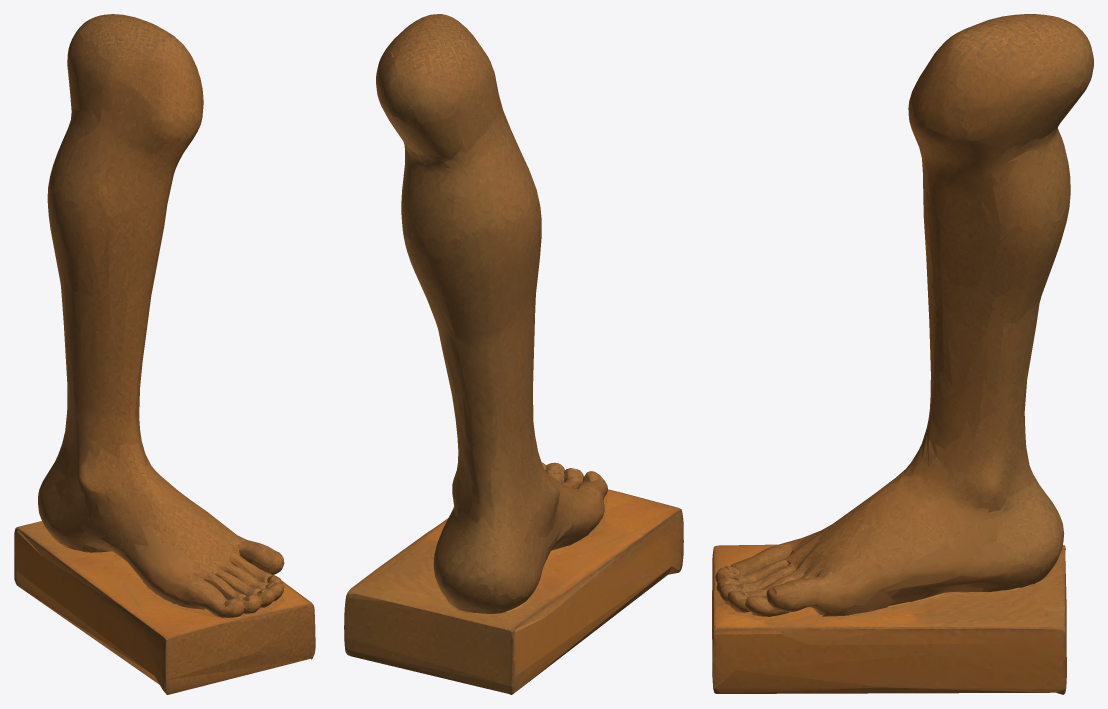
The model's file is leg.glb.
3 views of the same model, side by side, from view 1: azimuth 30°, elevation 25°; view 2: azimuth 150°, elevation 25°; view 3: azimuth 270°, elevation 25° (orthographic). The views are drawn at different scales.
Visible parts, largest first — view 1: mesh_node; view 2: mesh_node; view 3: mesh_node.
Boxes of the visible parts, x1,y1,x2,y2 form: mesh_node: [14, 14, 315, 694]; mesh_node: [344, 14, 683, 694]; mesh_node: [712, 14, 1093, 694].
Bounding box in the file's own units: 0.542 × 1.9 × 1.02.
Materials: 1 (1 with a texture image).
